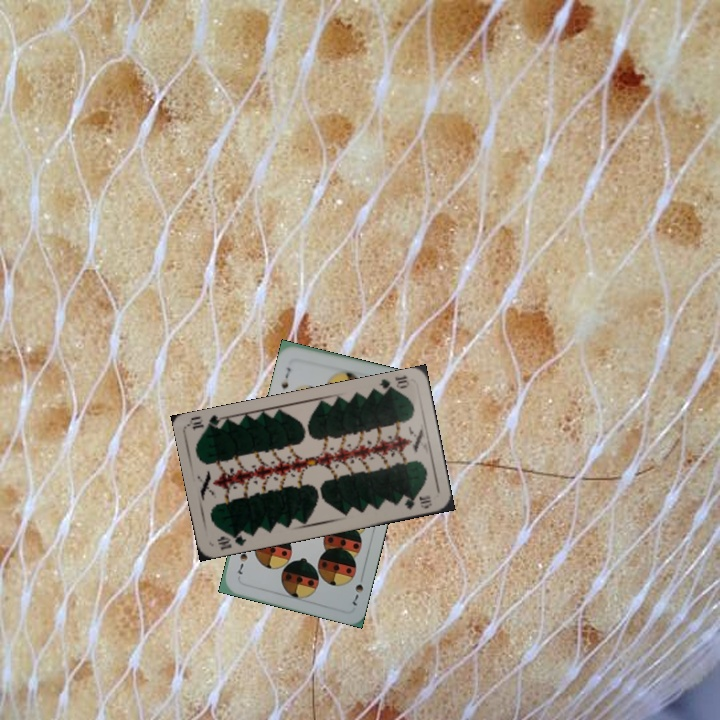G10: (373, 372, 410, 397), (213, 528, 249, 552)
S7: (348, 570, 367, 608), (277, 363, 293, 391)
